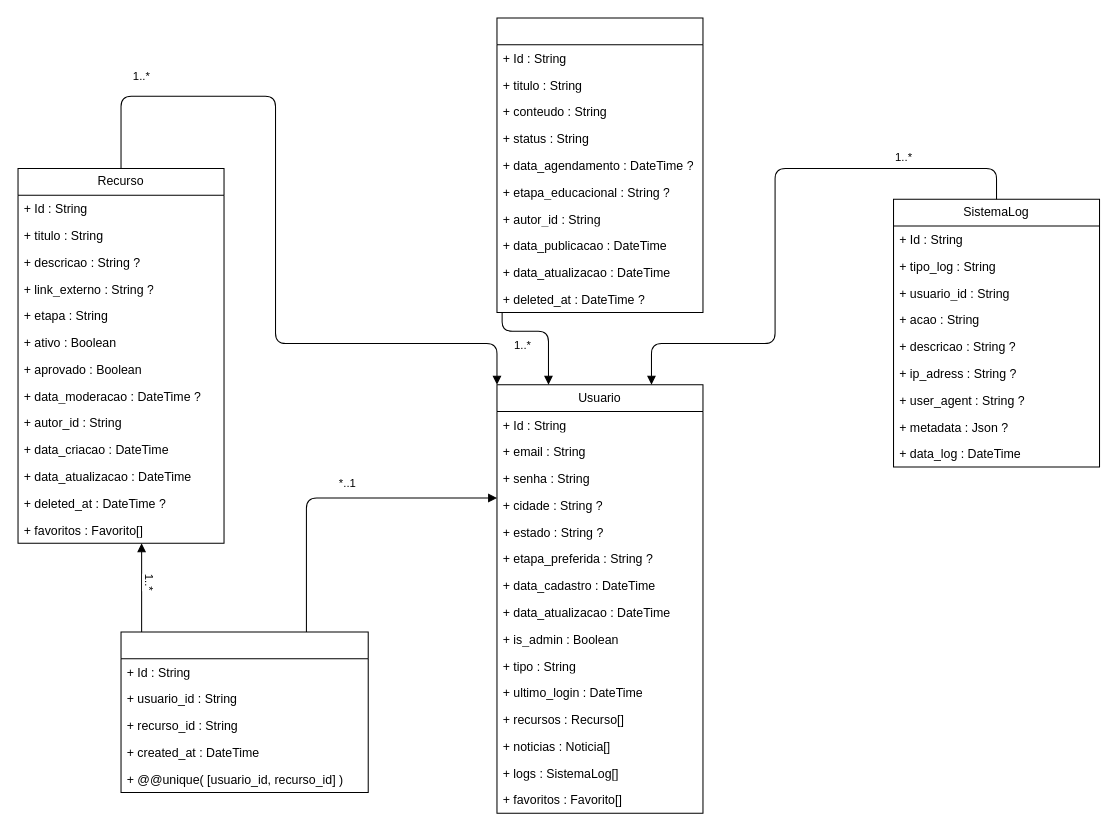
This 1118x834 diagram has some shape labels left out. The shapes that lost their labels are listed below. From the top down, each one's box as (x1, y1, x2, y2) in pixels, then its label:
(496, 17, 703, 313): Noticia
(120, 631, 368, 793): Favorito
